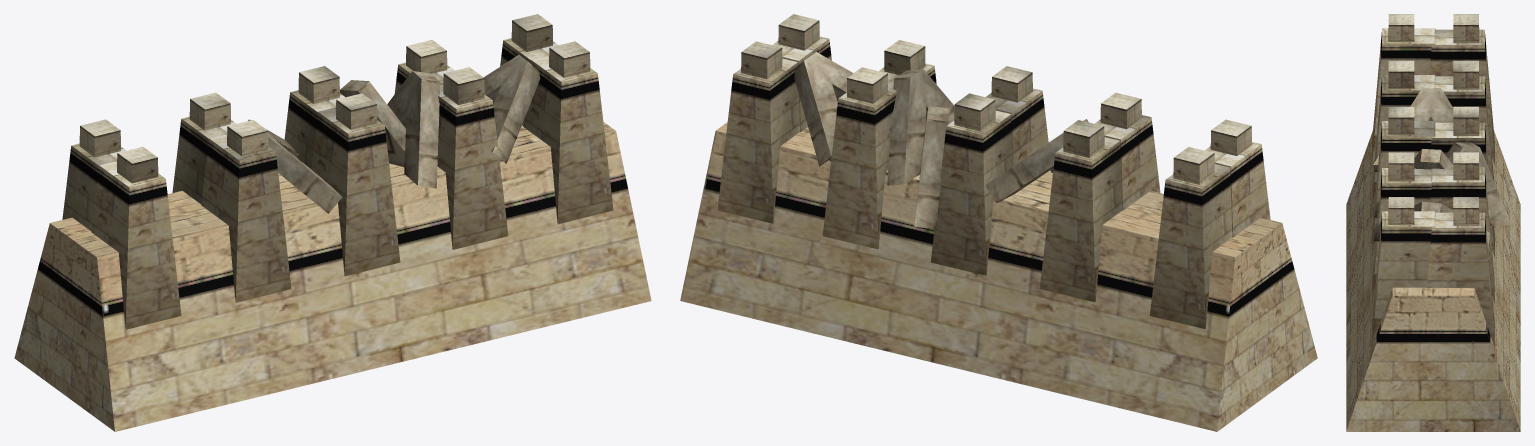
File: fndn_carthaginians_wall_long.glb
3 renders of one model, left to right at view 1: azimuth 30°, elevation 25°; view 2: azimuth 150°, elevation 25°; view 3: azimuth 270°, elevation 25°, orthographic. The views are drawn at different scales.
Visible parts, largest first — view 1: fndn_carthaginians_wall_long_part0; view 2: fndn_carthaginians_wall_long_part0; view 3: fndn_carthaginians_wall_long_part0.
Boxes of the visible parts, x1,y1,x2,y2 form: fndn_carthaginians_wall_long_part0: (14,14,651,431); fndn_carthaginians_wall_long_part0: (680,14,1317,431); fndn_carthaginians_wall_long_part0: (1346,14,1520,431).
Bounding box in the file's own units: 7.8 × 3.34 × 2.53.
Materials: 1 (1 with a texture image).
